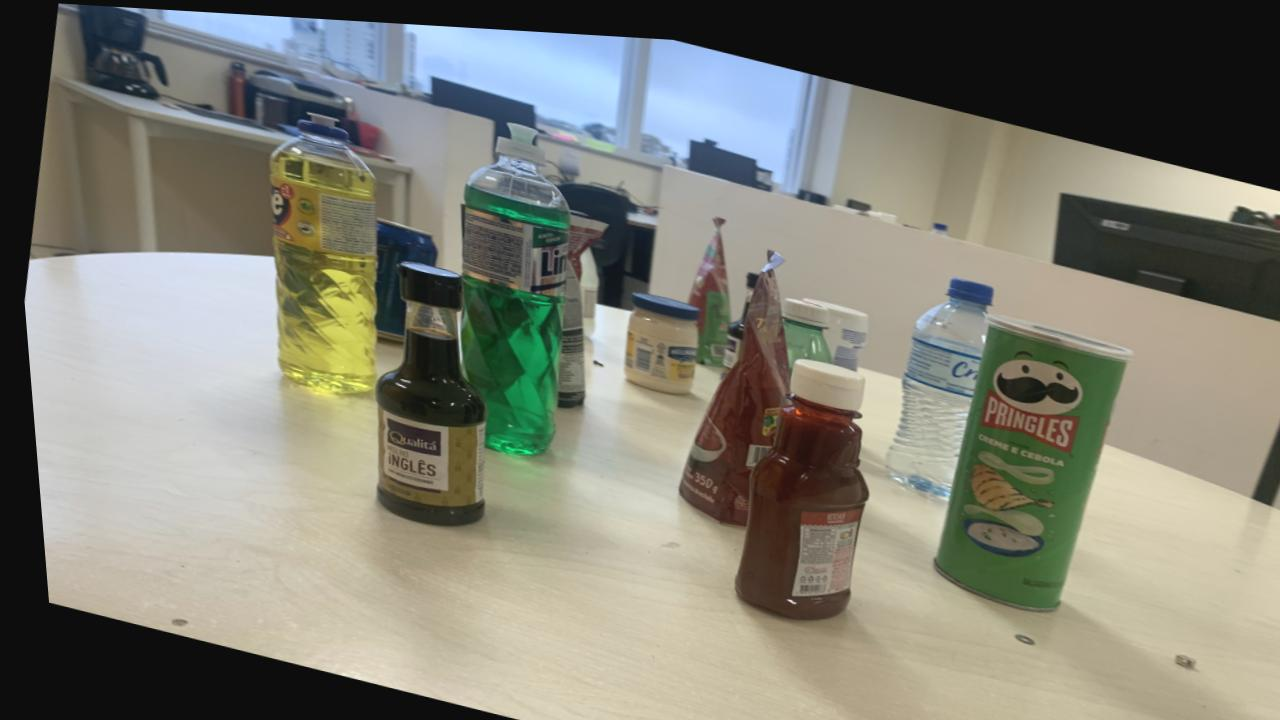Cleaner-Cleanup_Items: (799, 289, 864, 360)
Detergent-Cleanup_Items: (454, 120, 567, 448), (266, 111, 373, 389)
English_Sauce-Pantry_Items: (368, 257, 481, 520), (715, 263, 754, 369)
Guarana-Drinks: (777, 288, 825, 358)
Ketchup-Pantry_Items: (725, 349, 861, 610)
Mayonnaise-Pantry_Items: (618, 285, 695, 386)
Pringles-Snacks: (926, 301, 1128, 598)
Soda-Drinks: (575, 241, 596, 329)
Tomato_Sauce-Pantry_Items: (671, 244, 784, 517), (551, 204, 604, 401), (683, 208, 726, 358)
Tonic-Drinks: (369, 214, 433, 337)
Water_Bottle-Drinks: (878, 266, 988, 486)
